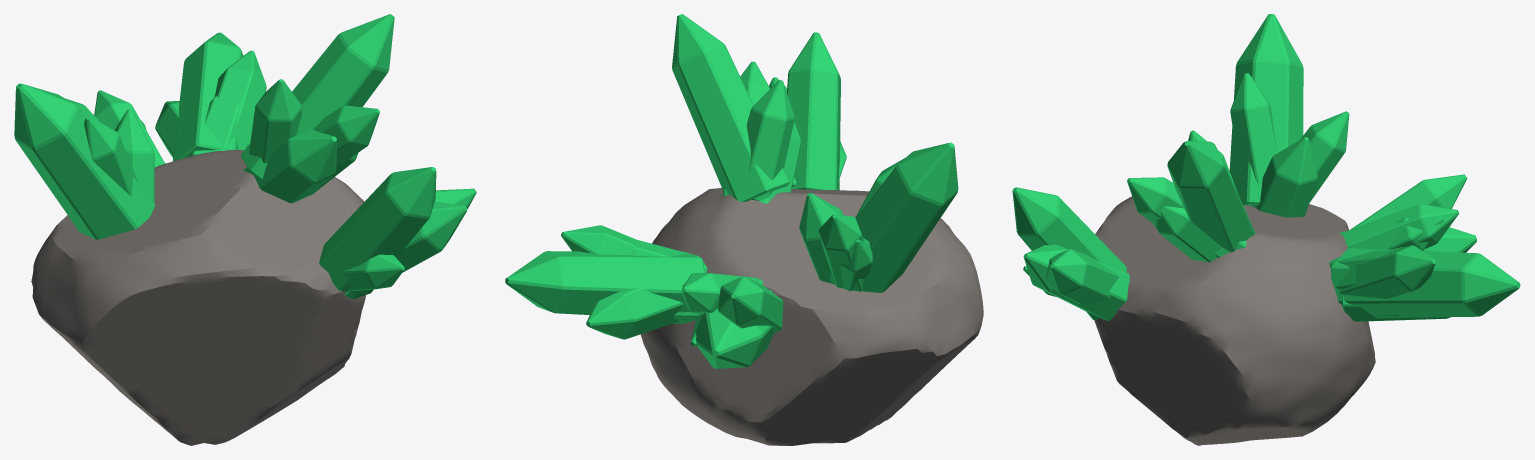
File: RockGemOre.fbx
3 views of the same model, side by side, from view 1: azimuth 30°, elevation 25°; view 2: azimuth 150°, elevation 25°; view 3: azimuth 270°, elevation 25° (orthographic). The views are drawn at different scales.
Visible parts, largest first — view 1: RockGemOre_Stone, RockGemOre_Gem; view 2: RockGemOre_Gem, RockGemOre_Stone; view 3: RockGemOre_Gem, RockGemOre_Stone.
Boxes of the visible parts, left/top/right/bottom form: RockGemOre_Stone: left=31, top=149, right=365, bottom=445; RockGemOre_Gem: left=14, top=14, right=476, bottom=299; RockGemOre_Gem: left=505, top=14, right=958, bottom=368; RockGemOre_Stone: left=640, top=187, right=983, bottom=445; RockGemOre_Gem: left=1012, top=14, right=1520, bottom=321; RockGemOre_Stone: left=1094, top=196, right=1375, bottom=445.
Bounding box in the file's own units: 233 × 245 × 318.
